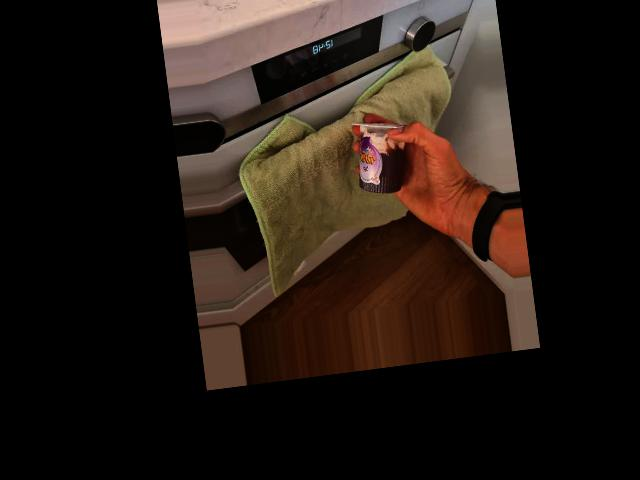milky: (349, 115, 417, 197)
